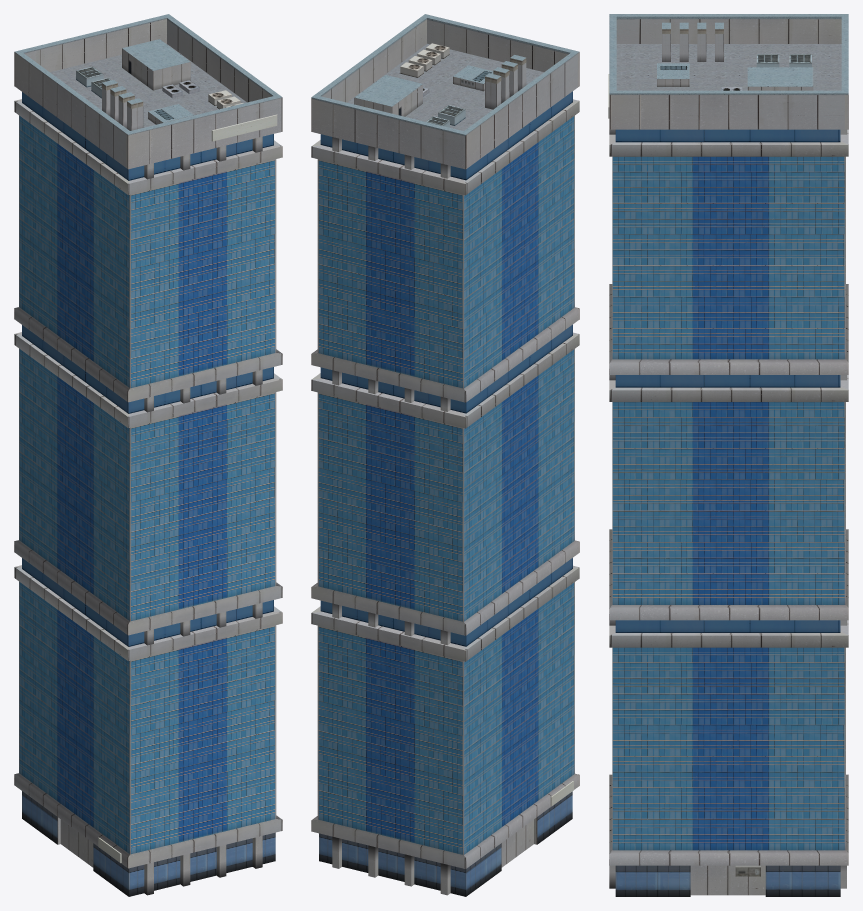
Rendered from Building_02.obj.
3 views of the same model, side by side, from view 1: azimuth 30°, elevation 25°; view 2: azimuth 150°, elevation 25°; view 3: azimuth 270°, elevation 25° (orthographic). The views are drawn at different scales.
Visible parts, largest first — view 1: Building_02.001_Mesh; view 2: Building_02.001_Mesh; view 3: Building_02.001_Mesh.
Boxes of the visible parts, x1=… form: Building_02.001_Mesh: x1=14, y1=14, x2=282, y2=896; Building_02.001_Mesh: x1=311, y1=14, x2=579, y2=896; Building_02.001_Mesh: x1=608, y1=14, x2=848, y2=896.
Bounding box in the file's own units: 6.54 × 31 × 8.33.
